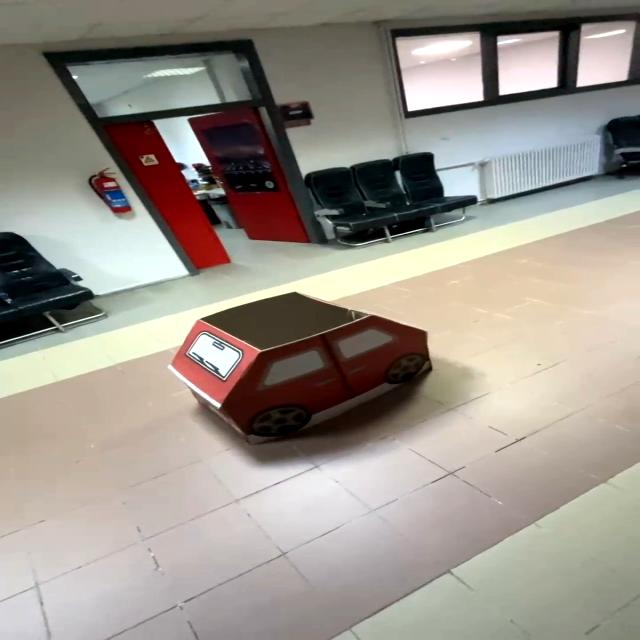red_car: (148, 276, 471, 451)
